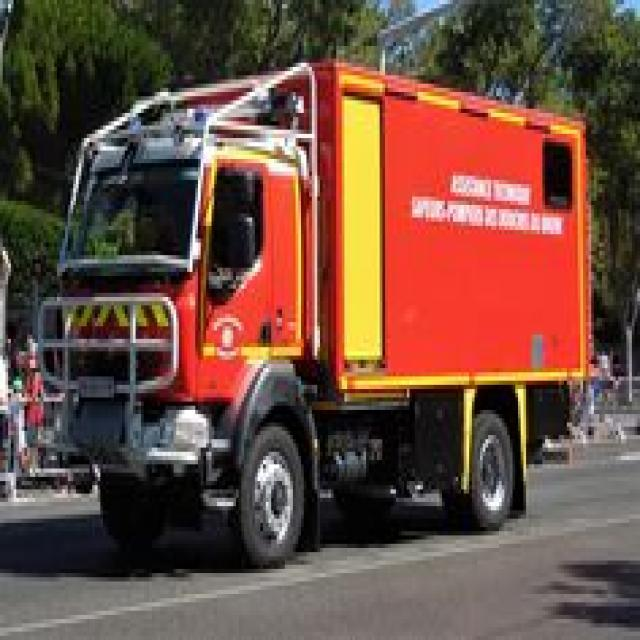emergency: (38, 53, 594, 559)
